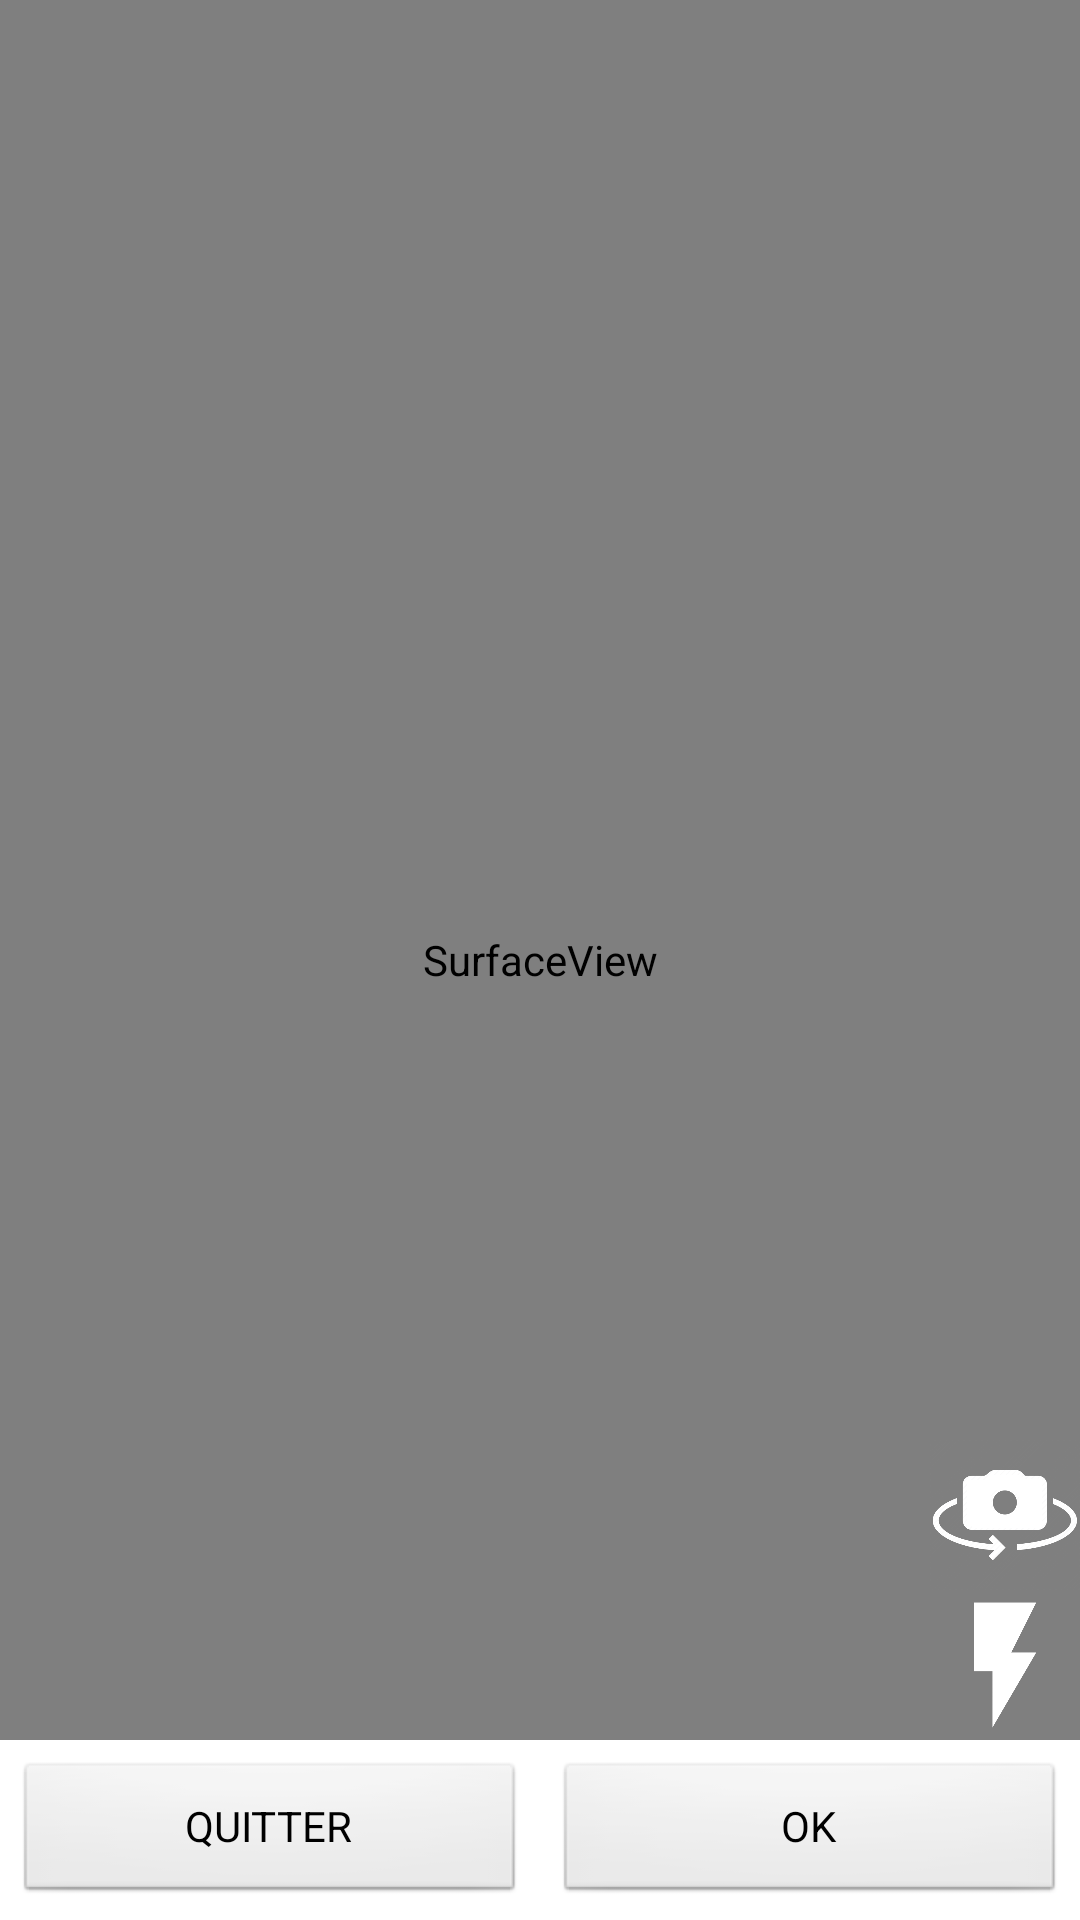

Icons on this 1080 x 1920 Android screen, each with the point to tap as (x=x, y=y):
flash: (x=1005, y=1664)
switch camera: (x=1005, y=1515)
